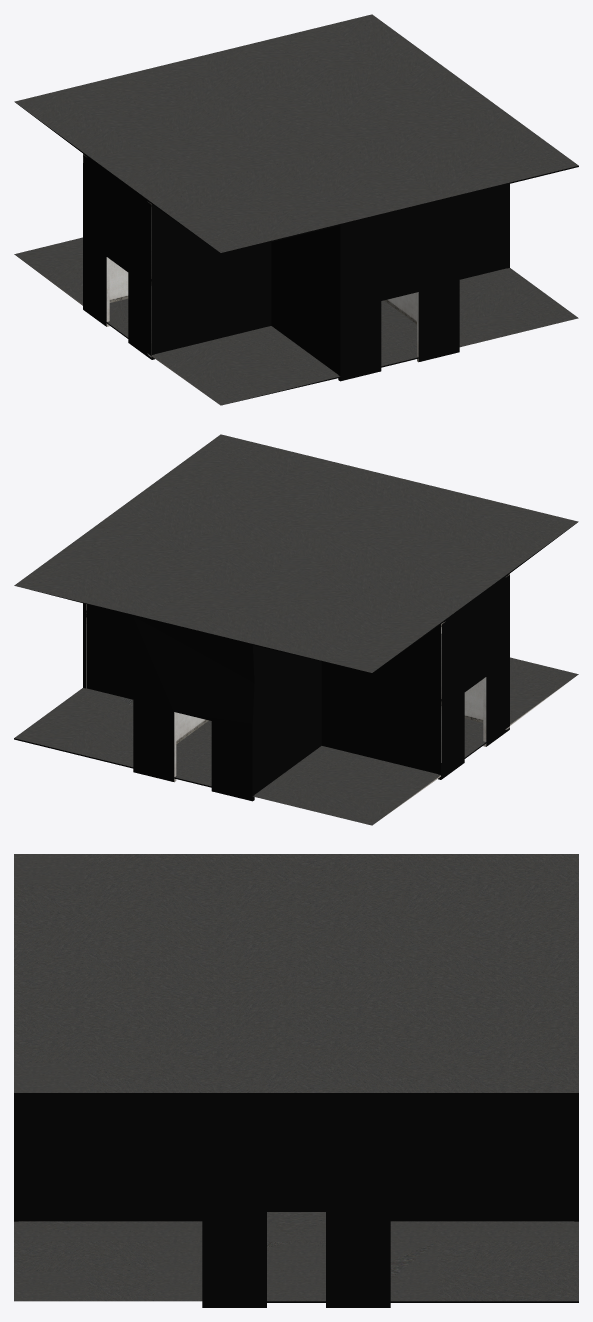
The model's file is LC-X-Cross-1.fbx.
3 views of the same model, one above another, from view 1: azimuth 30°, elevation 25°; view 2: azimuth 150°, elevation 25°; view 3: azimuth 270°, elevation 25° (orthographic). The views are drawn at different scales.
Visible parts, largest first — view 1: node_id8 (×3); view 2: node_id8 (×3); view 3: node_id8 (×2).
Boxes of the visible parts, <box> form: node_id8 (×3): <box>14,14,578,405</box>; node_id8 (×3): <box>14,434,578,825</box>; node_id8 (×2): <box>14,854,578,1307</box>.
Bounding box in the file's own units: 0.512 × 0.215 × 0.5119.
Materials: 3 (2 with a texture image).
